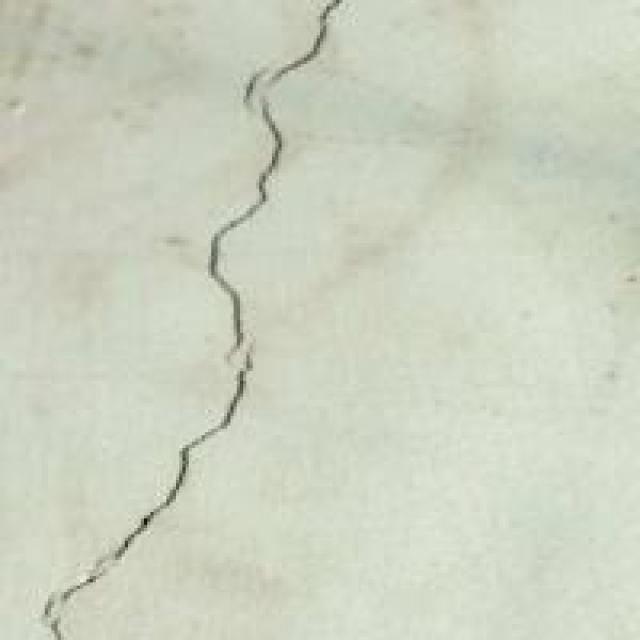Crack: (32, 3, 394, 637)
